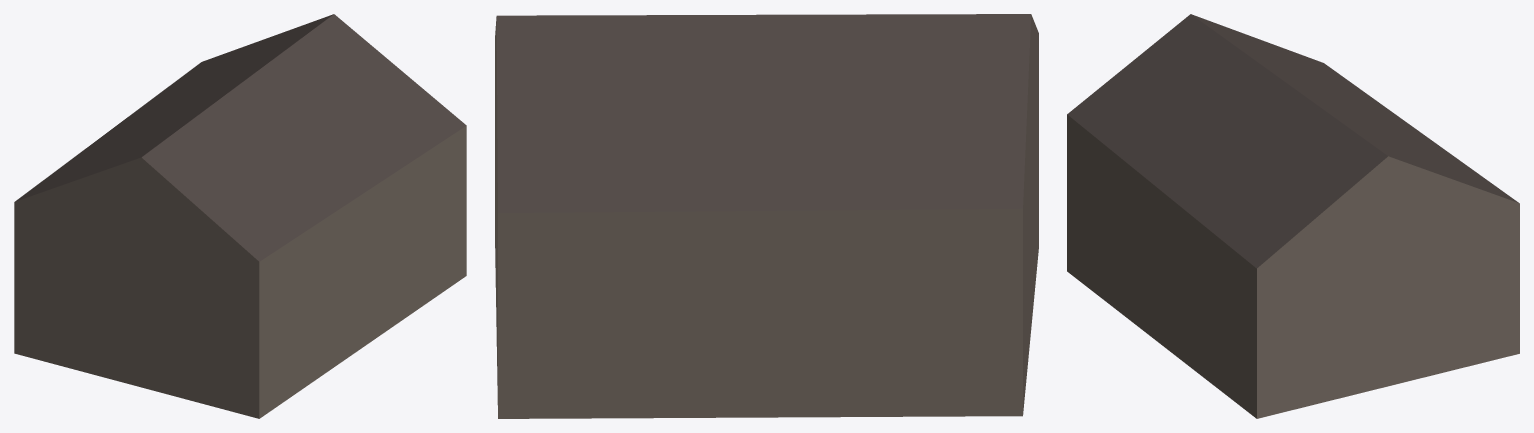
The picture shows the model from 3 angles, left to right: view 1: azimuth 30°, elevation 25°; view 2: azimuth 150°, elevation 25°; view 3: azimuth 270°, elevation 25°; orthographic projection. The views are drawn at different scales.
Parts seen in each view (by area): view 1: HP-w1512359776; view 2: HP-w1512359776; view 3: HP-w1512359776.
Boxes of the visible parts, <box> form: HP-w1512359776: <box>14,14,466,418</box>; HP-w1512359776: <box>495,14,1038,418</box>; HP-w1512359776: <box>1067,14,1519,418</box>.
Bounding box in the file's own units: 17.5 × 9.18 × 16.38.
